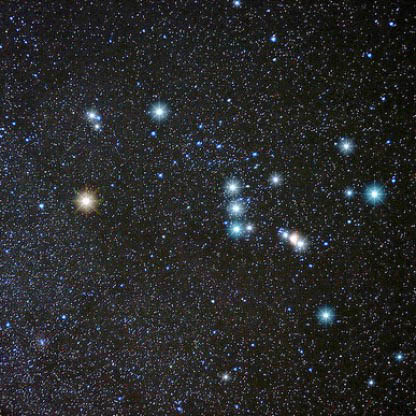Orion: (63, 182, 102, 222), (363, 173, 397, 216), (139, 93, 176, 128), (313, 294, 341, 333), (218, 171, 248, 196), (220, 198, 252, 218), (225, 219, 248, 242)
